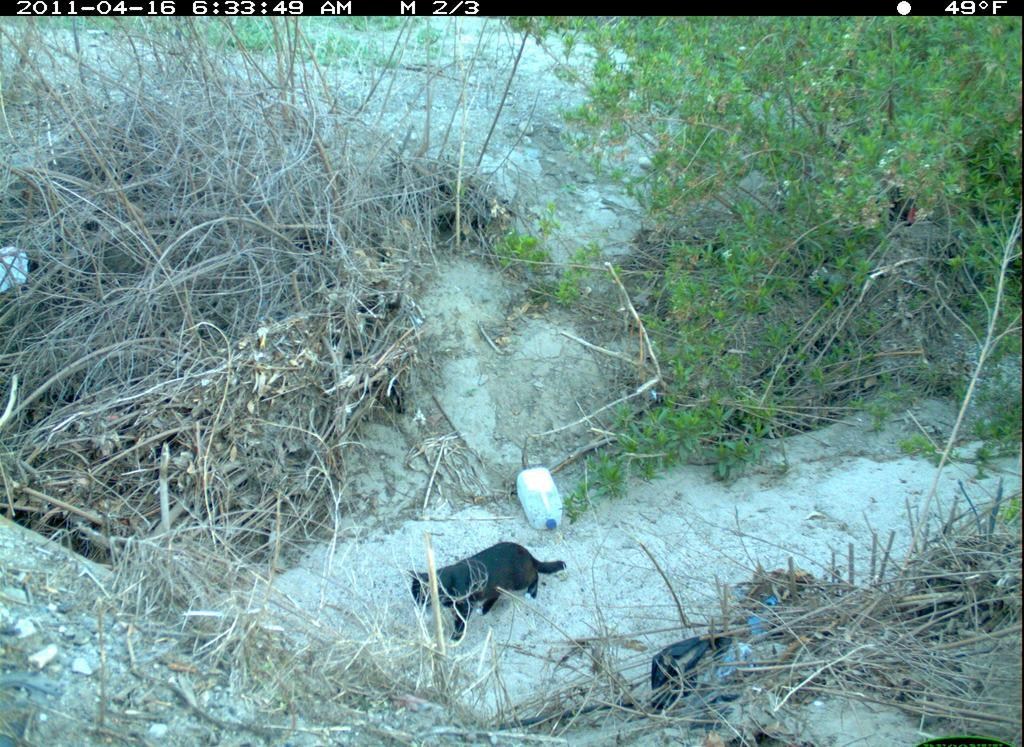cat: (404, 546, 578, 649)
